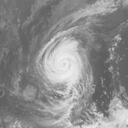cyclone: (40, 37, 88, 87)
